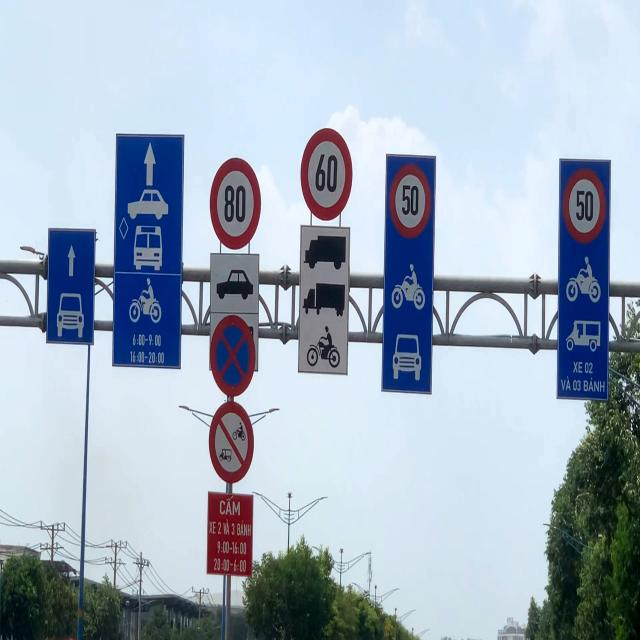P.127: (300, 127, 353, 221), (210, 157, 262, 250), (563, 168, 606, 244), (389, 164, 432, 239)
P.130: (210, 314, 256, 396)
